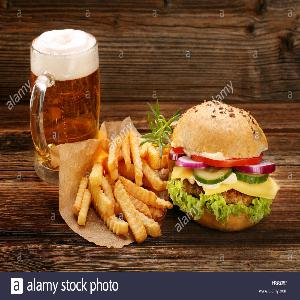cheeseburger_475cal: (173, 94, 284, 234)
fries_350cal: (67, 115, 174, 247)
